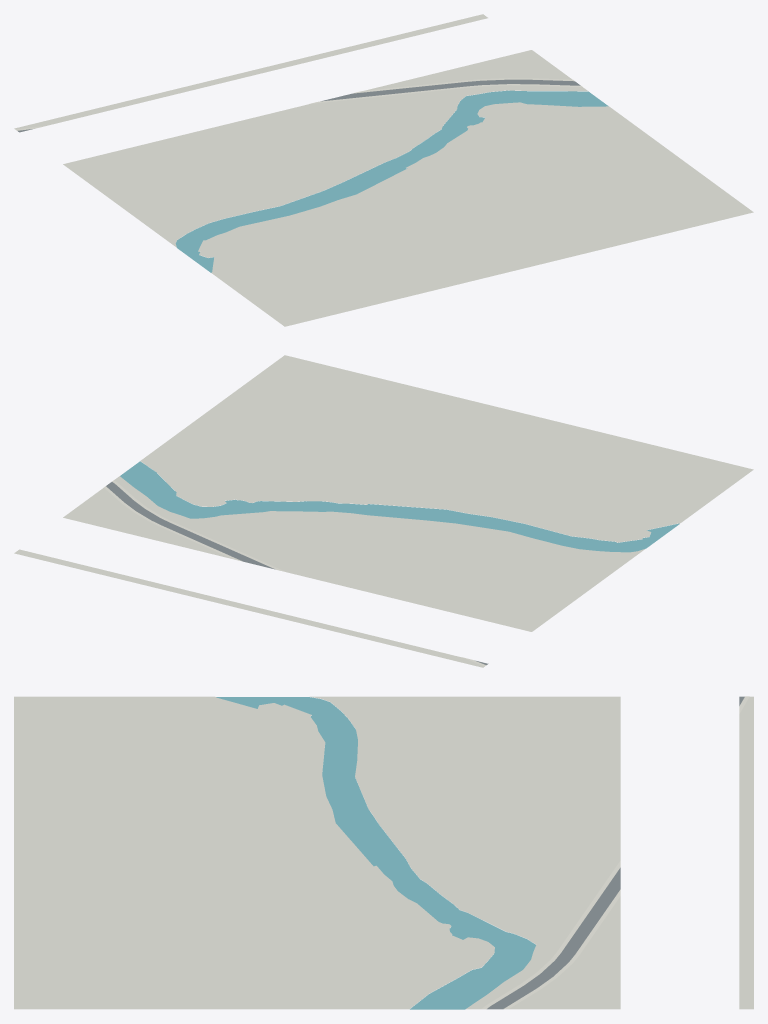
3 views of the same model, one above another, from view 1: azimuth 30°, elevation 25°; view 2: azimuth 150°, elevation 25°; view 3: azimuth 270°, elevation 25° (orthographic). The views are drawn at different scales.
Parts seen in each view (by area): view 1: city; view 2: city; view 3: city.
Part boxes in pixels (bbox=[...]): city: bbox=[14, 14, 753, 326]; city: bbox=[14, 355, 753, 667]; city: bbox=[14, 696, 753, 1009].
Bounding box in the file's own units: 500 × 0.4 × 500.
